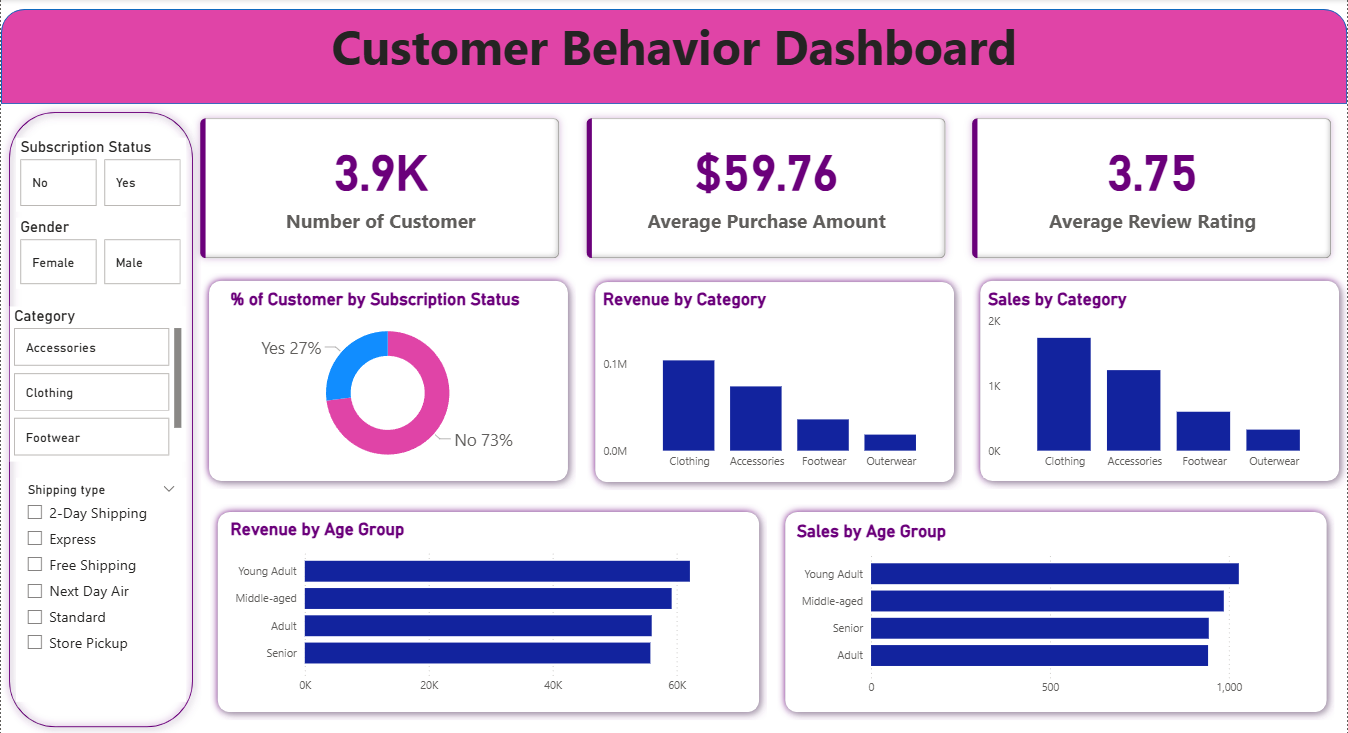

This screenshot's page, from the dashboard's own definition file:
{"tool":"powerbi","page":{"name":"Page 1","canvas":[1500,820],"ordinal":0},"visuals":[{"type":"cardVisual","fields":{"Data":["public customer.Number of Customer","public customer.Average Purchase Amount","public customer.Average Review Rating"]},"box":[206.1,117,1293.8,188],"z":1},{"type":"shape","box":[0,11.1,1499.9,105.8],"z":2},{"type":"textbox","box":[0,11.1,1499.9,105.8],"z":3},{"type":"shape","box":[222.8,305,417.8,240.9],"z":4},{"type":"donutChart","title":"% of Customer by Subscription Status","fields":{"Category":["public customer.subscription_status"],"Y":["CountNonNull(public customer.customer_id)"]},"box":[250.7,323.1,360.7,210.3],"z":5},{"type":"shape","box":[652.5,306.4,417.8,240.9],"z":6},{"type":"shape","box":[1082.1,305,417.8,240.9],"z":7},{"type":"clusteredColumnChart","title":"Revenue by Category","fields":{"Y":["Sum(public customer.purchase_amount)"],"Category":["public customer.category"]},"box":[665.7,323.1,391.3,210.3],"z":8},{"type":"clusteredColumnChart","title":"Sales by Category","fields":{"Y":["CountNonNull(public customer.customer_id)"],"Category":["public customer.category"]},"box":[1094.6,323.1,391.3,210.3],"z":9},{"type":"shape","box":[0,117,222.8,703.3],"z":10},{"type":"advancedSlicerVisual","fields":{"Values":["public customer.subscription_status"]},"box":[16.7,154.6,189.4,82.2],"z":11},{"type":"advancedSlicerVisual","fields":{"Values":["public customer.gender"]},"box":[16.7,243.7,189.4,79.4],"z":12},{"type":"advancedSlicerVisual","fields":{"Values":["public customer.category"]},"box":[9.7,342.6,196.4,172.7],"z":13},{"type":"slicer","fields":{"Values":["public customer.shipping_type"]},"box":[16.7,533.4,189.4,249.3],"z":14},{"type":"clusteredBarChart","title":"Revenue by Age Group","fields":{"Y":["Sum(public customer.purchase_amount)"],"Category":["public customer.age_group"]},"box":[250.7,579.4,586.3,203.3],"z":15},{"type":"shape","box":[232.6,562.6,621.1,240.9],"z":16},{"type":"shape","box":[864.8,562.6,621.1,240.9],"z":17},{"type":"clusteredBarChart","title":"Revenue by Age Group","fields":{"Y":["Sum(public customer.purchase_amount)"],"Category":["public customer.age_group"]},"box":[250.7,579.4,586.3,203.3],"z":18},{"type":"clusteredBarChart","title":"Sales by Age Group","fields":{"Y":["CountNonNull(public customer.customer_id)"],"Category":["public customer.age_group"]},"box":[881.6,582.1,586.3,203.3],"z":19}]}

Visuals, with their boxes in screenshot pixels (x1, y1, x2, y2), scaled from the page's 1500x820 canvas onto the 1348x733 screenshot:
cardVisual - public customer.Number of Customer x public customer.Average Purchase Amount: (185, 105, 1347, 273)
shape: (0, 10, 1347, 104)
textbox: (0, 10, 1347, 104)
shape: (200, 273, 576, 488)
"% of Customer by Subscription Status" donutChart: (225, 289, 549, 477)
shape: (586, 274, 962, 489)
shape: (972, 273, 1347, 488)
"Revenue by Category" clusteredColumnChart: (598, 289, 950, 477)
"Sales by Category" clusteredColumnChart: (984, 289, 1335, 477)
shape: (0, 105, 200, 732)
advancedSlicerVisual - public customer.subscription_status: (15, 138, 185, 212)
advancedSlicerVisual - public customer.gender: (15, 218, 185, 289)
advancedSlicerVisual - public customer.category: (9, 306, 185, 461)
slicer - public customer.shipping_type: (15, 477, 185, 700)
"Revenue by Age Group" clusteredBarChart: (225, 518, 752, 700)
shape: (209, 503, 767, 718)
shape: (777, 503, 1335, 718)
"Revenue by Age Group" clusteredBarChart: (225, 518, 752, 700)
"Sales by Age Group" clusteredBarChart: (792, 520, 1319, 702)
